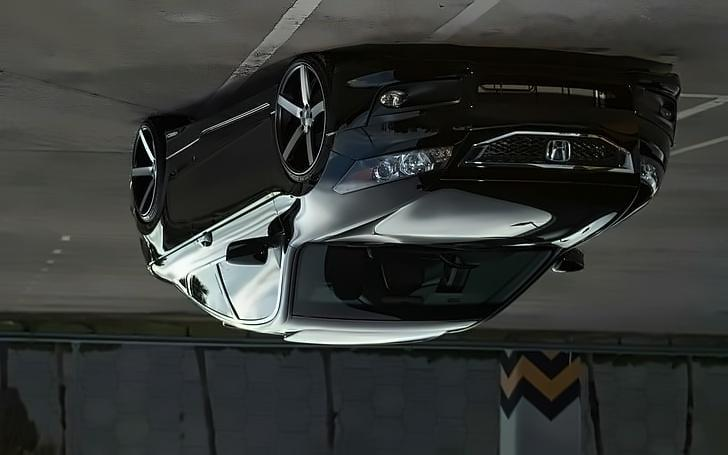Car hood: (303, 172, 654, 248)
Fender - -F-L-: (269, 84, 376, 243)
Fender - -R-L-: (131, 162, 174, 274)
Front bumper: (328, 43, 684, 161)
Headlight - -L-: (332, 144, 458, 196)
Headlight - -R-: (639, 157, 663, 200)
Passenger-s door - -F-L-: (199, 84, 289, 334)
Passenger-s door - -R-L-: (150, 97, 241, 325)
Side bumper - -L-: (167, 82, 280, 177)
Side mirror - -L-: (224, 233, 284, 268), (550, 244, 591, 278)
